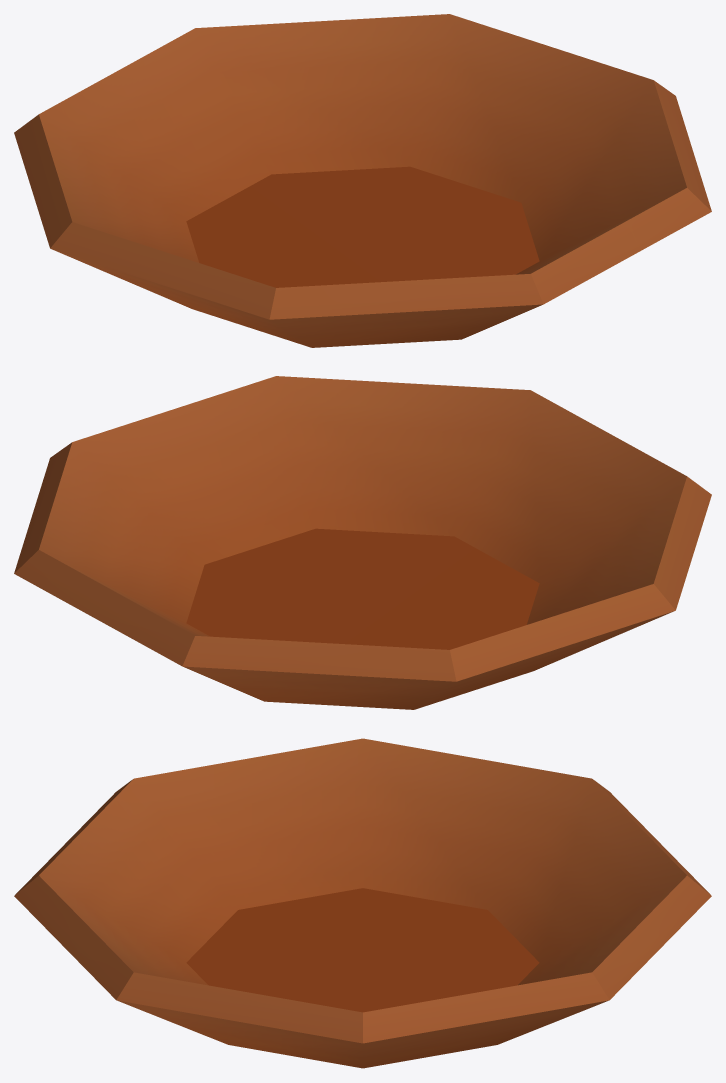
File: SM_FlowerPotPlate_01.fbx
The picture shows the model from 3 angles, top to bottom: view 1: azimuth 30°, elevation 25°; view 2: azimuth 150°, elevation 25°; view 3: azimuth 270°, elevation 25°; orthographic projection. The views are drawn at different scales.
Visible parts, largest first — view 1: SM_FlowerPotPlate_01; view 2: SM_FlowerPotPlate_01; view 3: SM_FlowerPotPlate_01.
Part boxes in pixels (left/top/right/bottom): SM_FlowerPotPlate_01: left=14, top=14, right=711, bottom=347; SM_FlowerPotPlate_01: left=14, top=376, right=711, bottom=709; SM_FlowerPotPlate_01: left=14, top=738, right=711, bottom=1068.
Bounding box in the file's own units: 0.5267 × 0.0937 × 0.5267.
